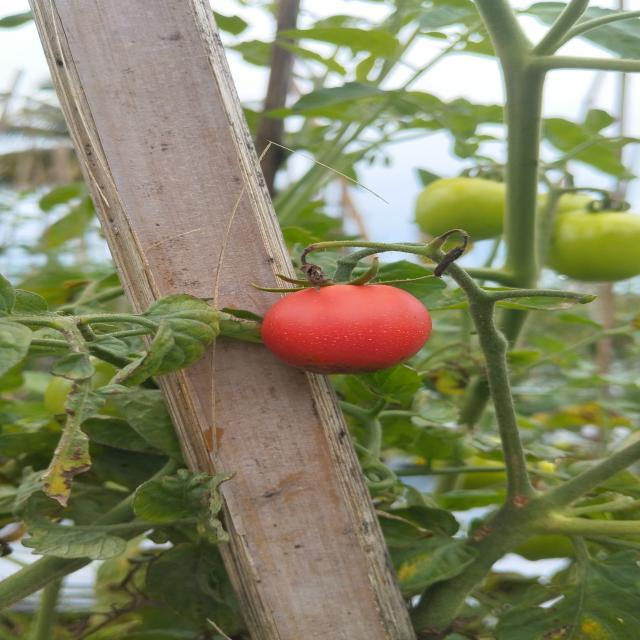Masak: (242, 254, 433, 388)
Mengkal: (545, 184, 639, 280), (398, 169, 523, 238)
